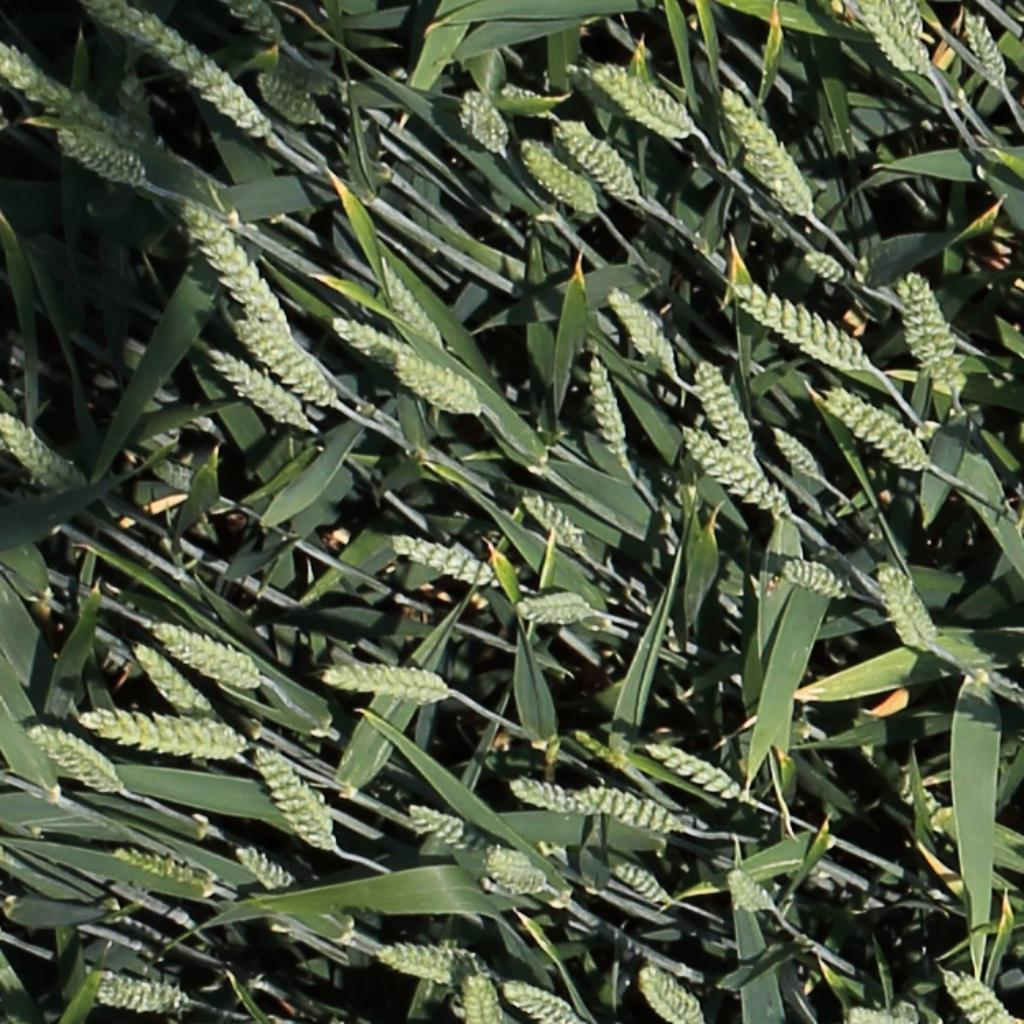0-0: (129, 4, 287, 151), (0, 38, 158, 155), (178, 199, 285, 331), (716, 87, 814, 221), (731, 282, 865, 365), (248, 745, 343, 852), (77, 708, 252, 762), (229, 319, 336, 407), (588, 61, 700, 142), (679, 427, 783, 513), (147, 622, 269, 692), (824, 387, 927, 469), (207, 350, 311, 429), (126, 638, 220, 724), (0, 408, 89, 494), (26, 721, 129, 795), (518, 137, 607, 217), (51, 127, 158, 193), (571, 780, 690, 839), (899, 268, 959, 385), (554, 117, 638, 199), (603, 283, 677, 376), (690, 356, 756, 460), (371, 258, 443, 353), (862, 739, 945, 818), (873, 562, 943, 650), (320, 659, 451, 706), (647, 744, 749, 804), (372, 937, 484, 990), (582, 349, 629, 466), (858, 1, 928, 79), (323, 311, 421, 366), (389, 536, 491, 585), (937, 965, 1021, 1024), (256, 69, 335, 131), (393, 354, 477, 412), (406, 805, 495, 858), (958, 5, 1010, 95), (636, 962, 704, 1024), (453, 85, 512, 156), (498, 978, 589, 1024), (112, 847, 214, 888), (91, 972, 191, 1013), (517, 490, 584, 550), (764, 420, 823, 486), (506, 778, 605, 817), (110, 65, 159, 134), (71, 0, 142, 46), (230, 844, 297, 891), (514, 589, 599, 626), (723, 865, 775, 918), (613, 861, 672, 906), (570, 729, 629, 774), (229, 0, 281, 49), (779, 561, 846, 598), (461, 972, 505, 1024), (499, 82, 556, 122), (144, 455, 199, 493), (487, 867, 549, 897), (479, 844, 538, 873), (801, 249, 846, 282), (842, 1003, 912, 1024), (888, 0, 925, 39)
